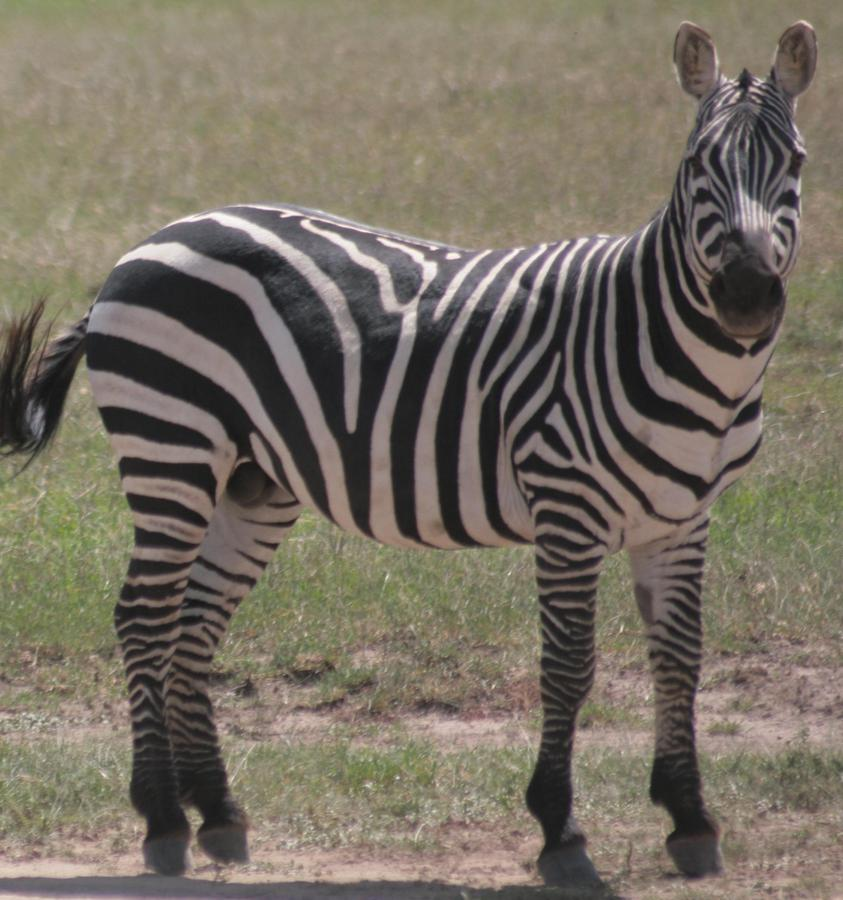zebra_plains: (79, 211, 698, 498)
